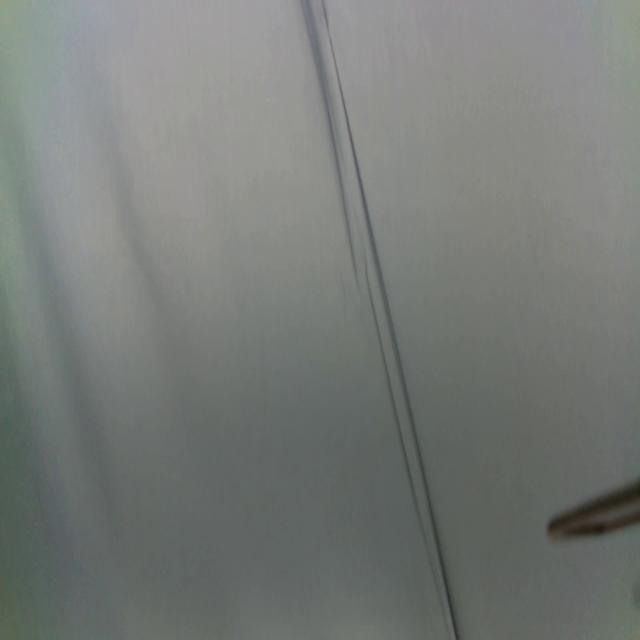crease: (304, 0, 459, 640)
